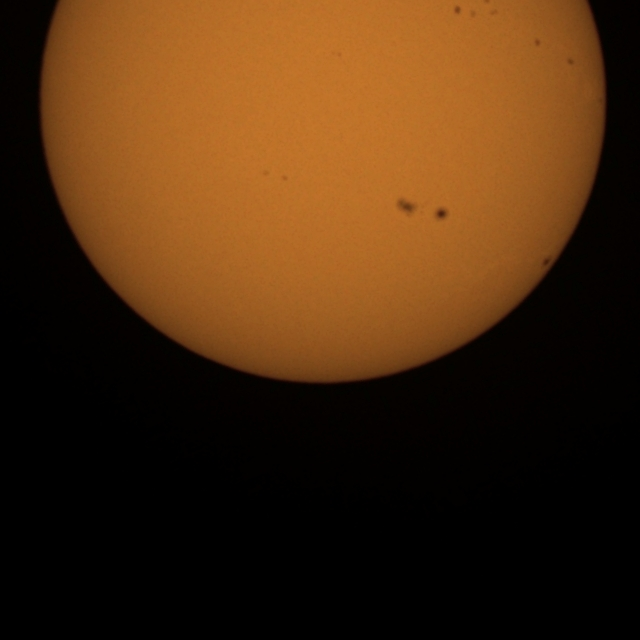sunspot: (394, 199, 452, 223), (466, 2, 499, 21), (395, 197, 423, 218), (453, 4, 479, 20), (432, 206, 450, 223), (541, 256, 553, 269), (488, 6, 499, 17), (453, 4, 463, 16), (533, 37, 542, 48), (280, 173, 290, 182), (566, 57, 575, 67), (262, 169, 271, 178)
